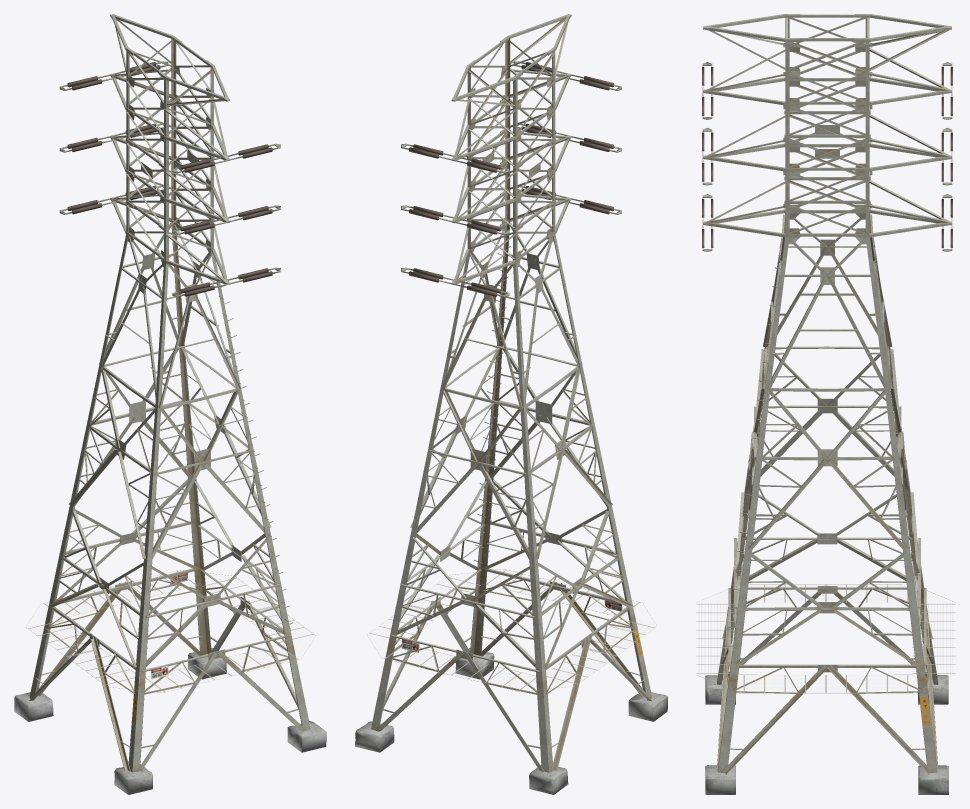
3 renders of one model, left to right at view 1: azimuth 30°, elevation 25°; view 2: azimuth 150°, elevation 25°; view 3: azimuth 270°, elevation 25°, orthographic. The views are drawn at different scales.
Parts seen in each view (by area): view 1: main, extra; view 2: main, extra; view 3: main, extra.
Boxes of the visible parts, x1,y1,x2,y2 form: main: (29, 14, 310, 772); extra: (14, 61, 326, 794); main: (370, 14, 652, 772); extra: (355, 61, 667, 794); main: (703, 14, 951, 774); extra: (696, 62, 955, 794).
Bounding box in the file's own units: 0.6512 × 2 × 0.6563.
Materials: 2 (2 with a texture image).
